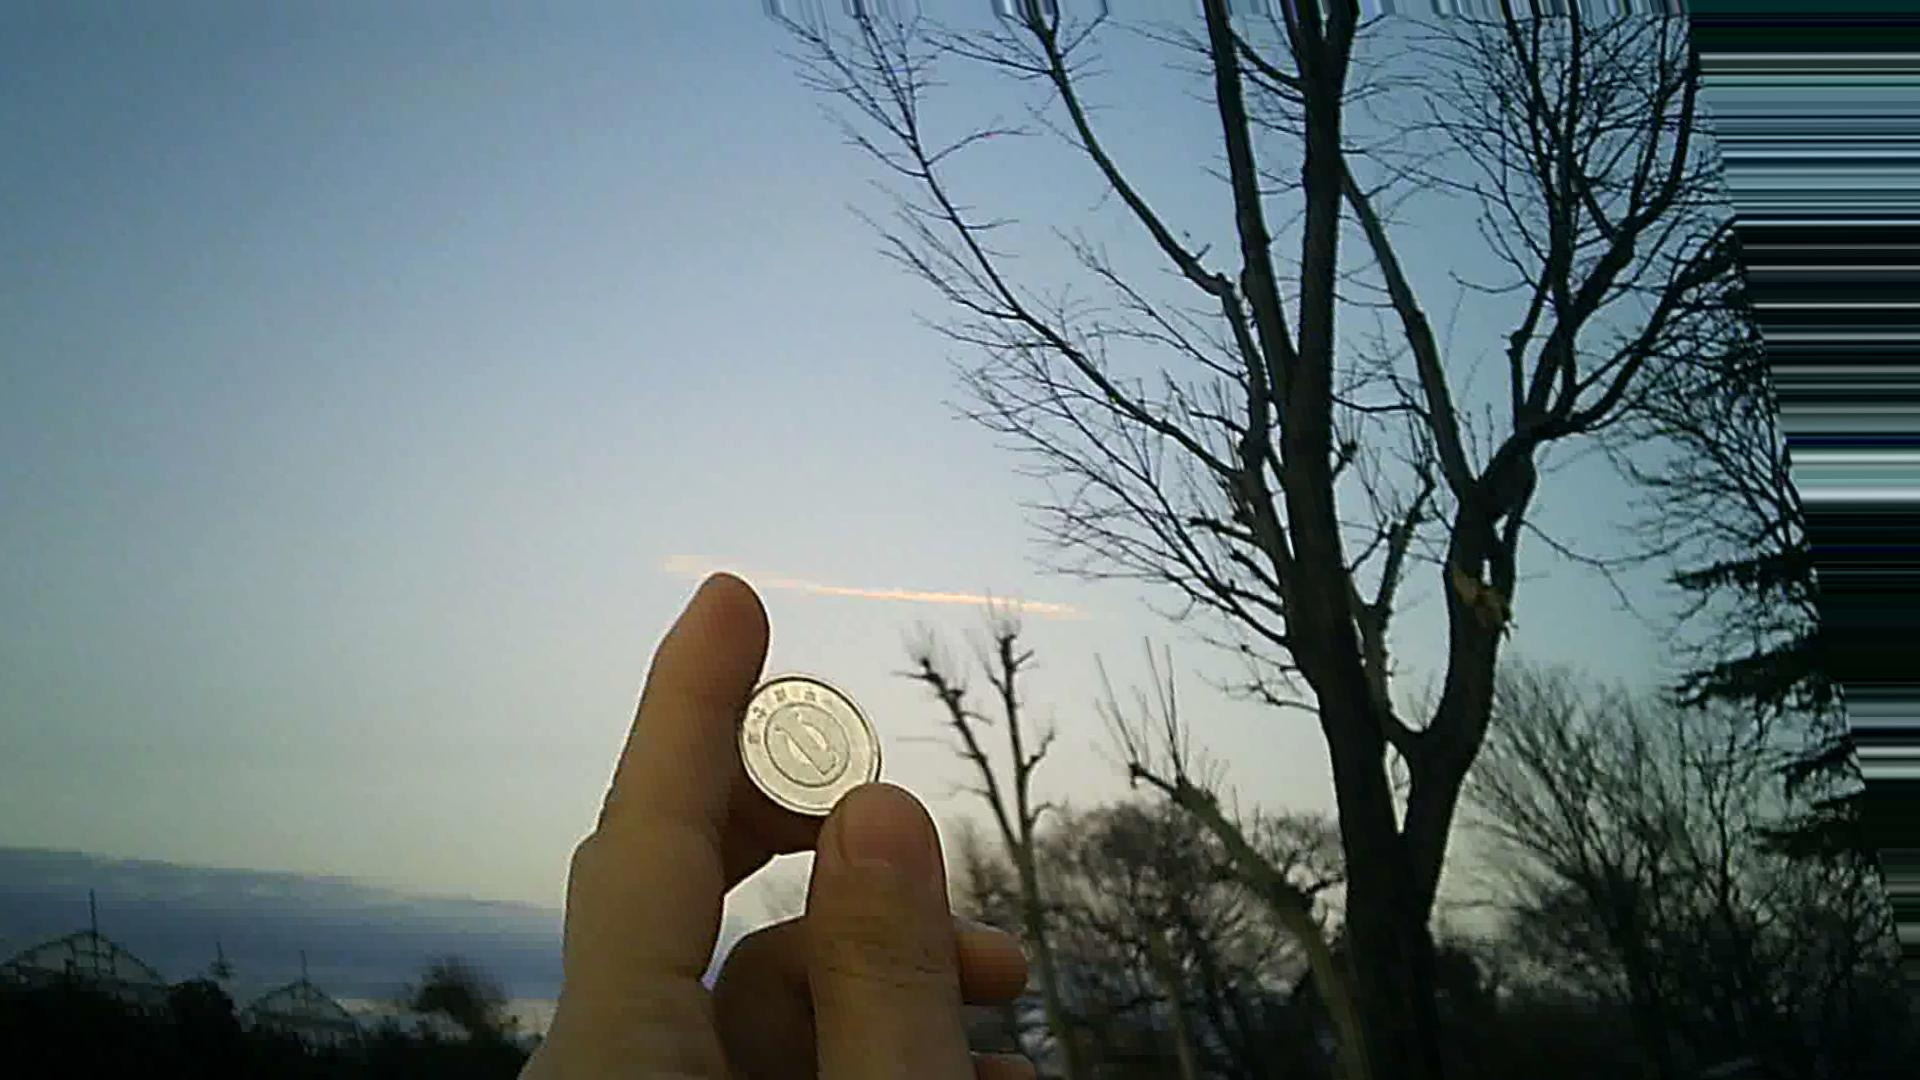1 Yen: (736, 653, 895, 819)
